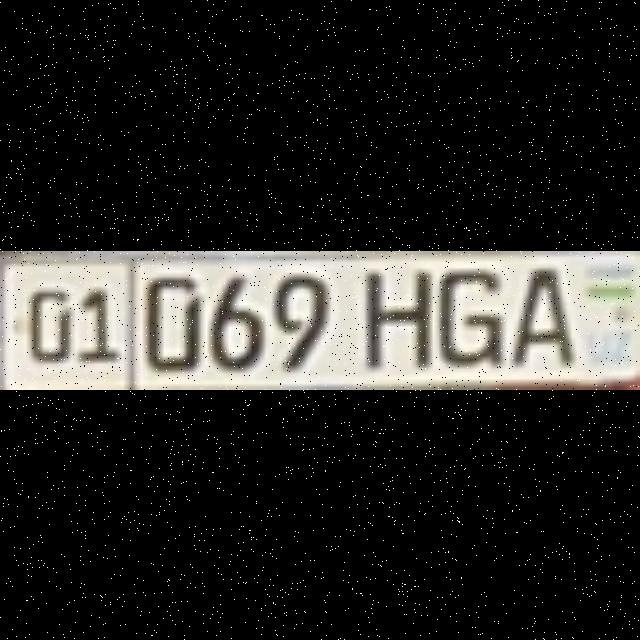0: (140, 268, 190, 362), (19, 282, 65, 352)
1: (74, 283, 116, 357)
6: (204, 268, 256, 362)
9: (264, 264, 320, 362)
A: (506, 259, 570, 361)
G: (432, 260, 496, 356)
H: (358, 264, 422, 362)
